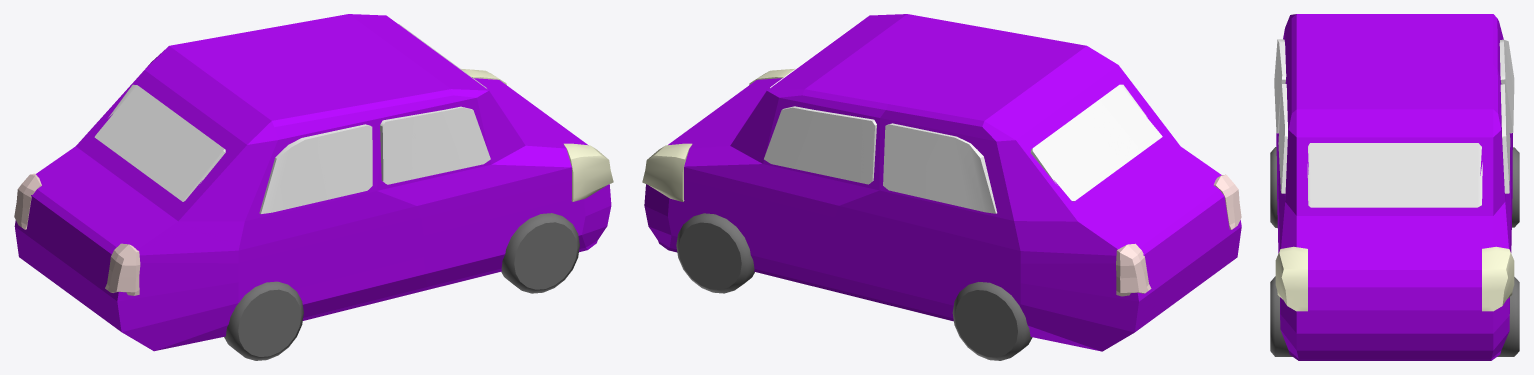
Rendered from CarroMorado.fbx.
3 renders of one model, left to right at view 1: azimuth 30°, elevation 25°; view 2: azimuth 150°, elevation 25°; view 3: azimuth 270°, elevation 25°, orthographic. The views are drawn at different scales.
Parts seen in each view (by area): view 1: pCube1, pCube10, pCube7, pCube8, pCylinder1, pCylinder2, pCube11, pCube9; view 2: pCube1, pCube10, pCube4, pCube3, pCylinder3, pCylinder4, pCube11, pCube9; view 3: pCube1, pCube6, pCube9, pCube4, pCylinder1, pCylinder3, pCube8, pCube3, pCube7, pCylinder4, pCylinder2.
Boxes of the visible parts, x1,y1,x2,y2 form: pCube1: [14, 14, 611, 351]; pCube10: [94, 84, 225, 201]; pCube7: [259, 124, 372, 213]; pCube8: [380, 106, 490, 184]; pCylinder1: [501, 213, 579, 293]; pCylinder2: [224, 281, 303, 360]; pCube11: [14, 173, 140, 295]; pCube9: [461, 69, 613, 201]; pCube1: [644, 14, 1241, 351]; pCube10: [1030, 84, 1162, 201]; pCube4: [883, 123, 997, 213]; pCube3: [764, 106, 876, 184]; pCylinder3: [676, 213, 754, 293]; pCylinder4: [952, 282, 1032, 360]; pCube11: [1116, 174, 1241, 296]; pCube9: [642, 68, 794, 201]; pCube1: [1276, 14, 1512, 360]; pCube6: [1307, 143, 1482, 207]; pCube9: [1275, 246, 1514, 311]; pCube4: [1499, 39, 1514, 133]; pCylinder1: [1270, 276, 1292, 356]; pCylinder3: [1497, 277, 1519, 356]; pCube8: [1278, 84, 1287, 193]; pCube3: [1500, 84, 1510, 193]; pCube7: [1274, 39, 1286, 133]; pCylinder4: [1512, 147, 1519, 227]; pCylinder2: [1270, 147, 1277, 227].
Bounding box in the file's own units: 24.41 × 10.7 × 11.09.
